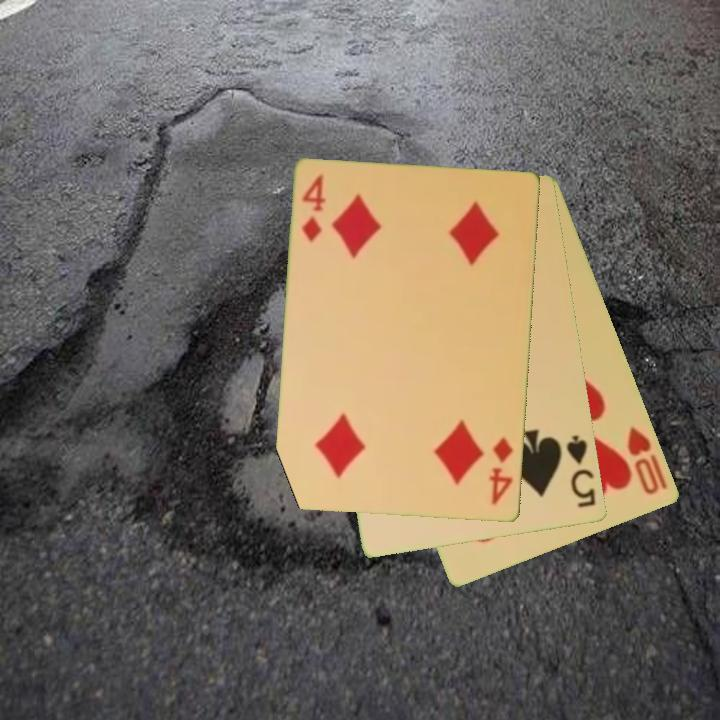10h: (624, 423, 671, 498)
4d: (298, 171, 330, 246), (486, 434, 516, 508)
5s: (563, 431, 599, 511)
